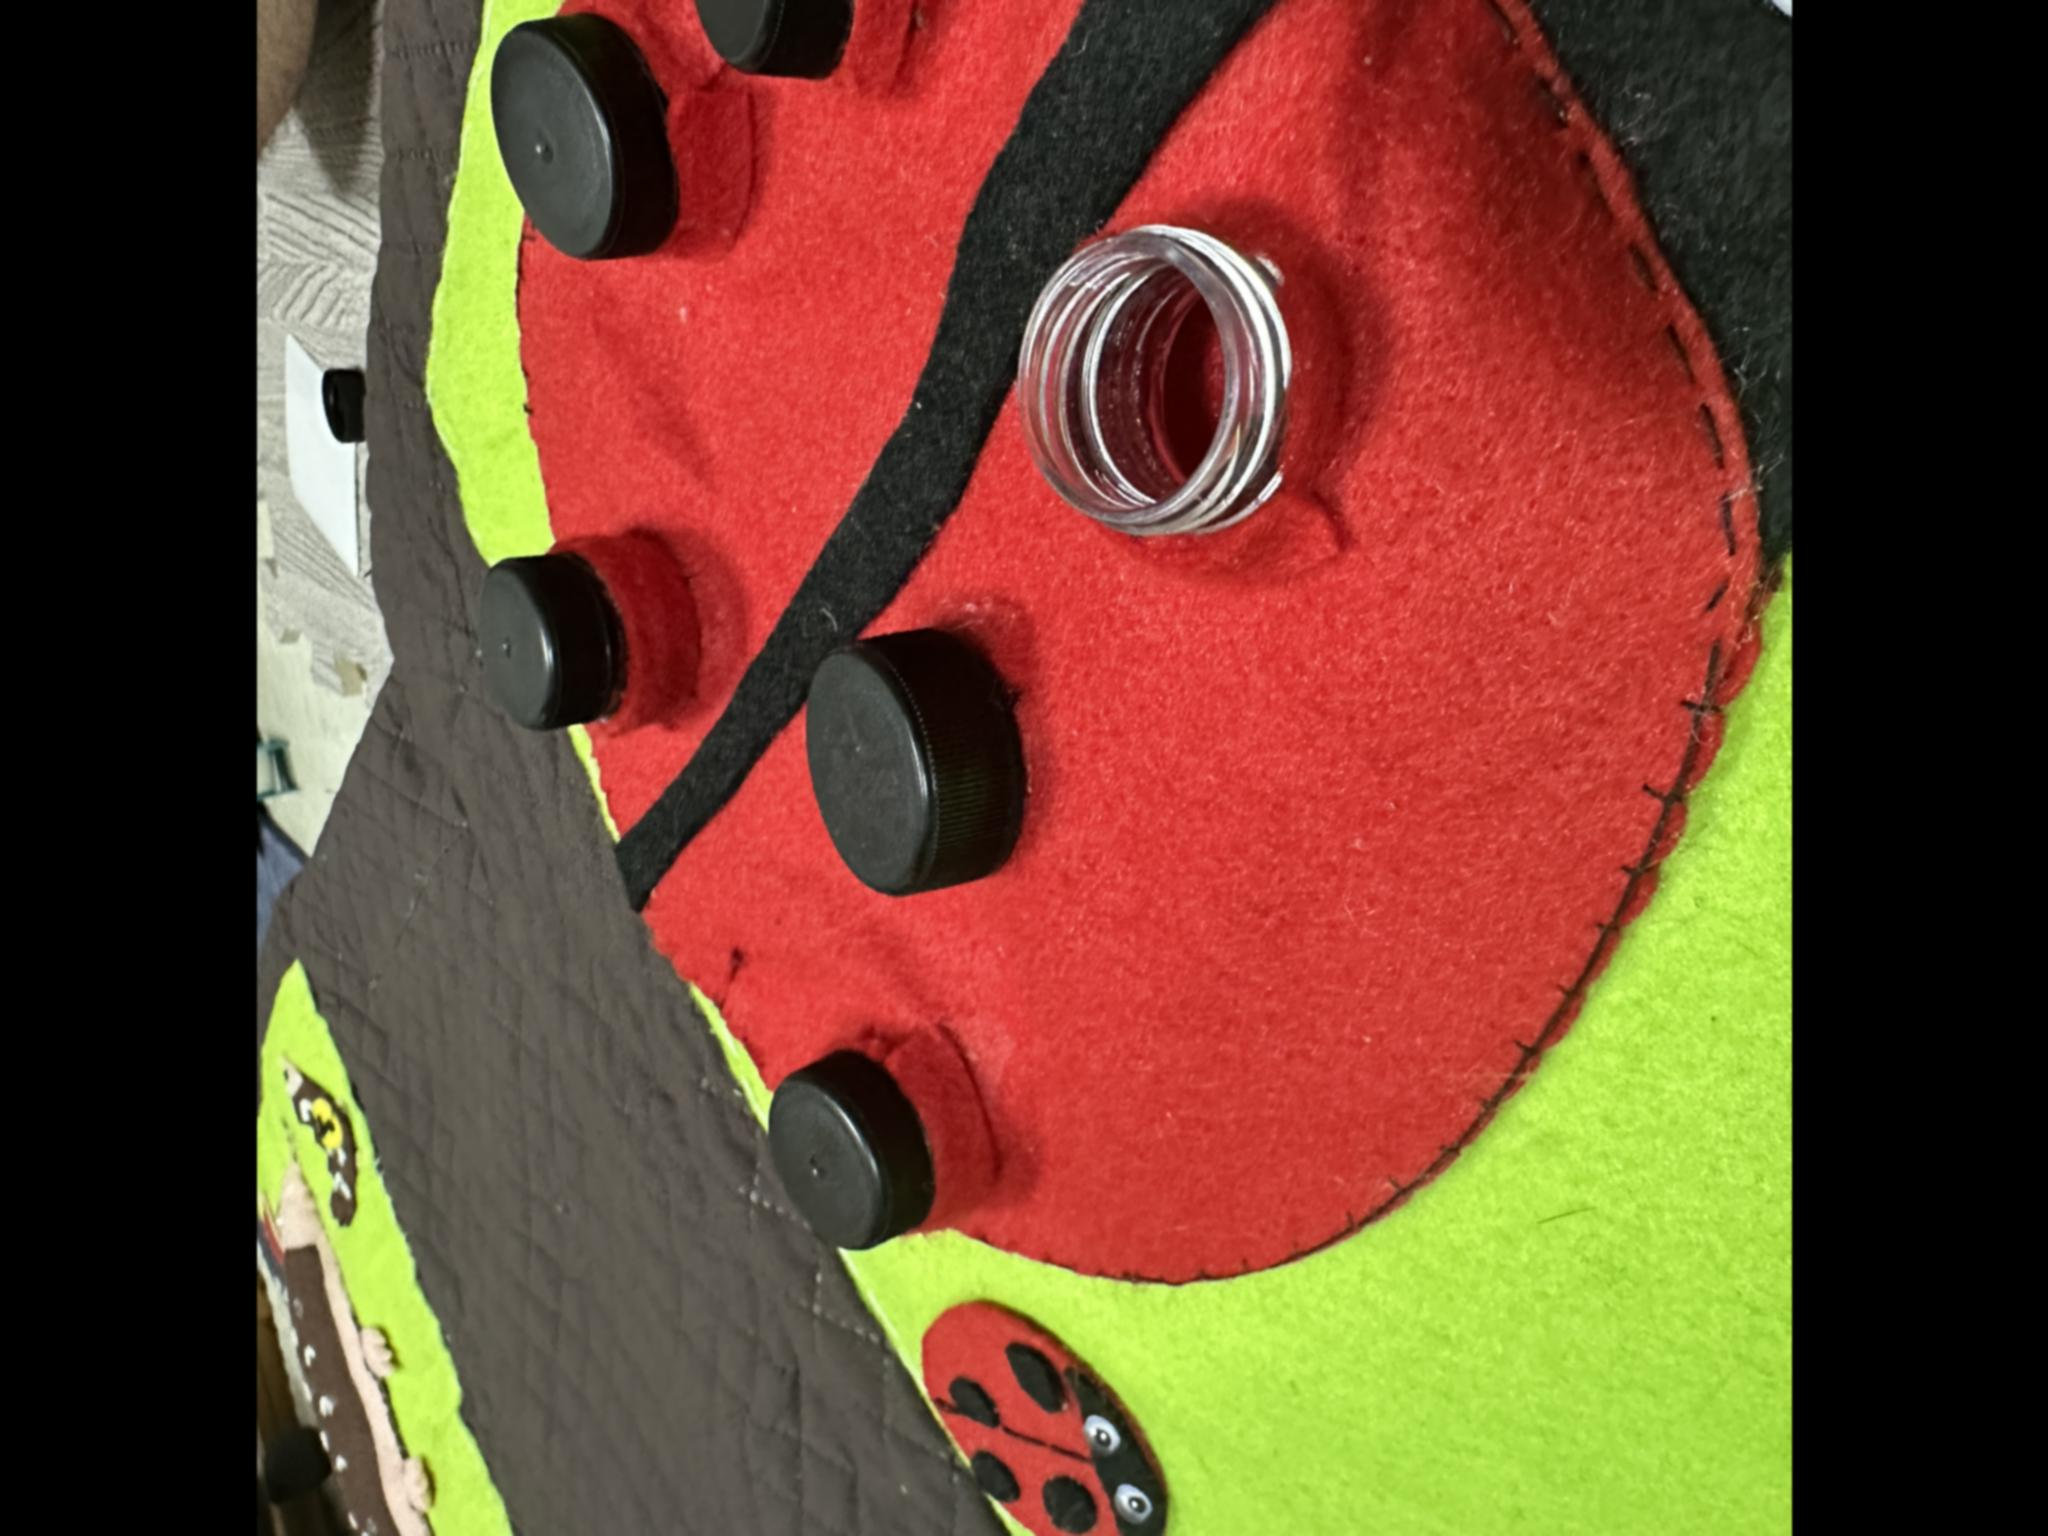cap_ok: (795, 600, 1056, 913), (469, 0, 742, 282), (758, 991, 1014, 1276), (471, 518, 685, 747), (645, 0, 956, 110)
